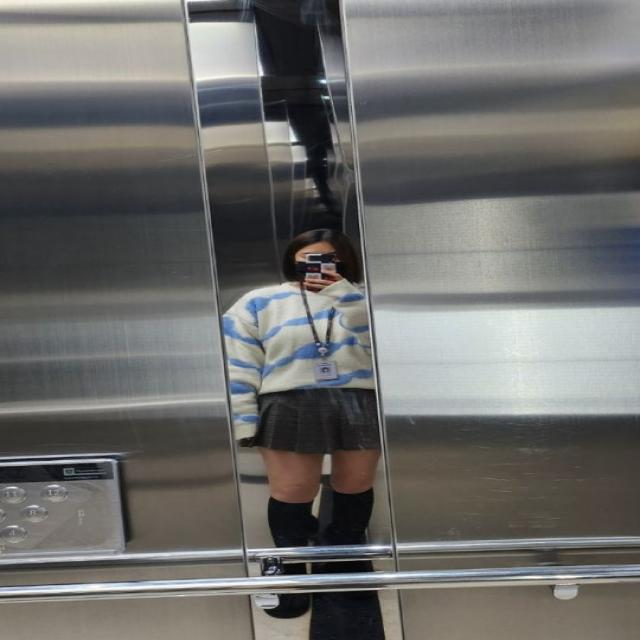skirt: (245, 386, 382, 451)
sweater: (224, 275, 375, 441)
